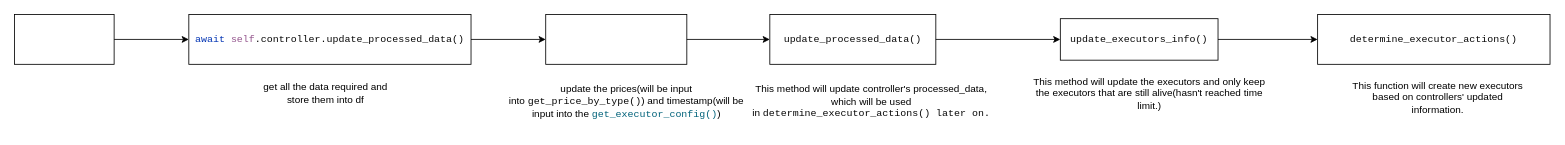
Image size: 1565x145. Some labels were removed from this diagram. Here are the shapes that lost their labels. From the top down, the centre of each, then its label:
At point 64,39: "run_backtesting".
At point 616,39: "update_market_data()".
